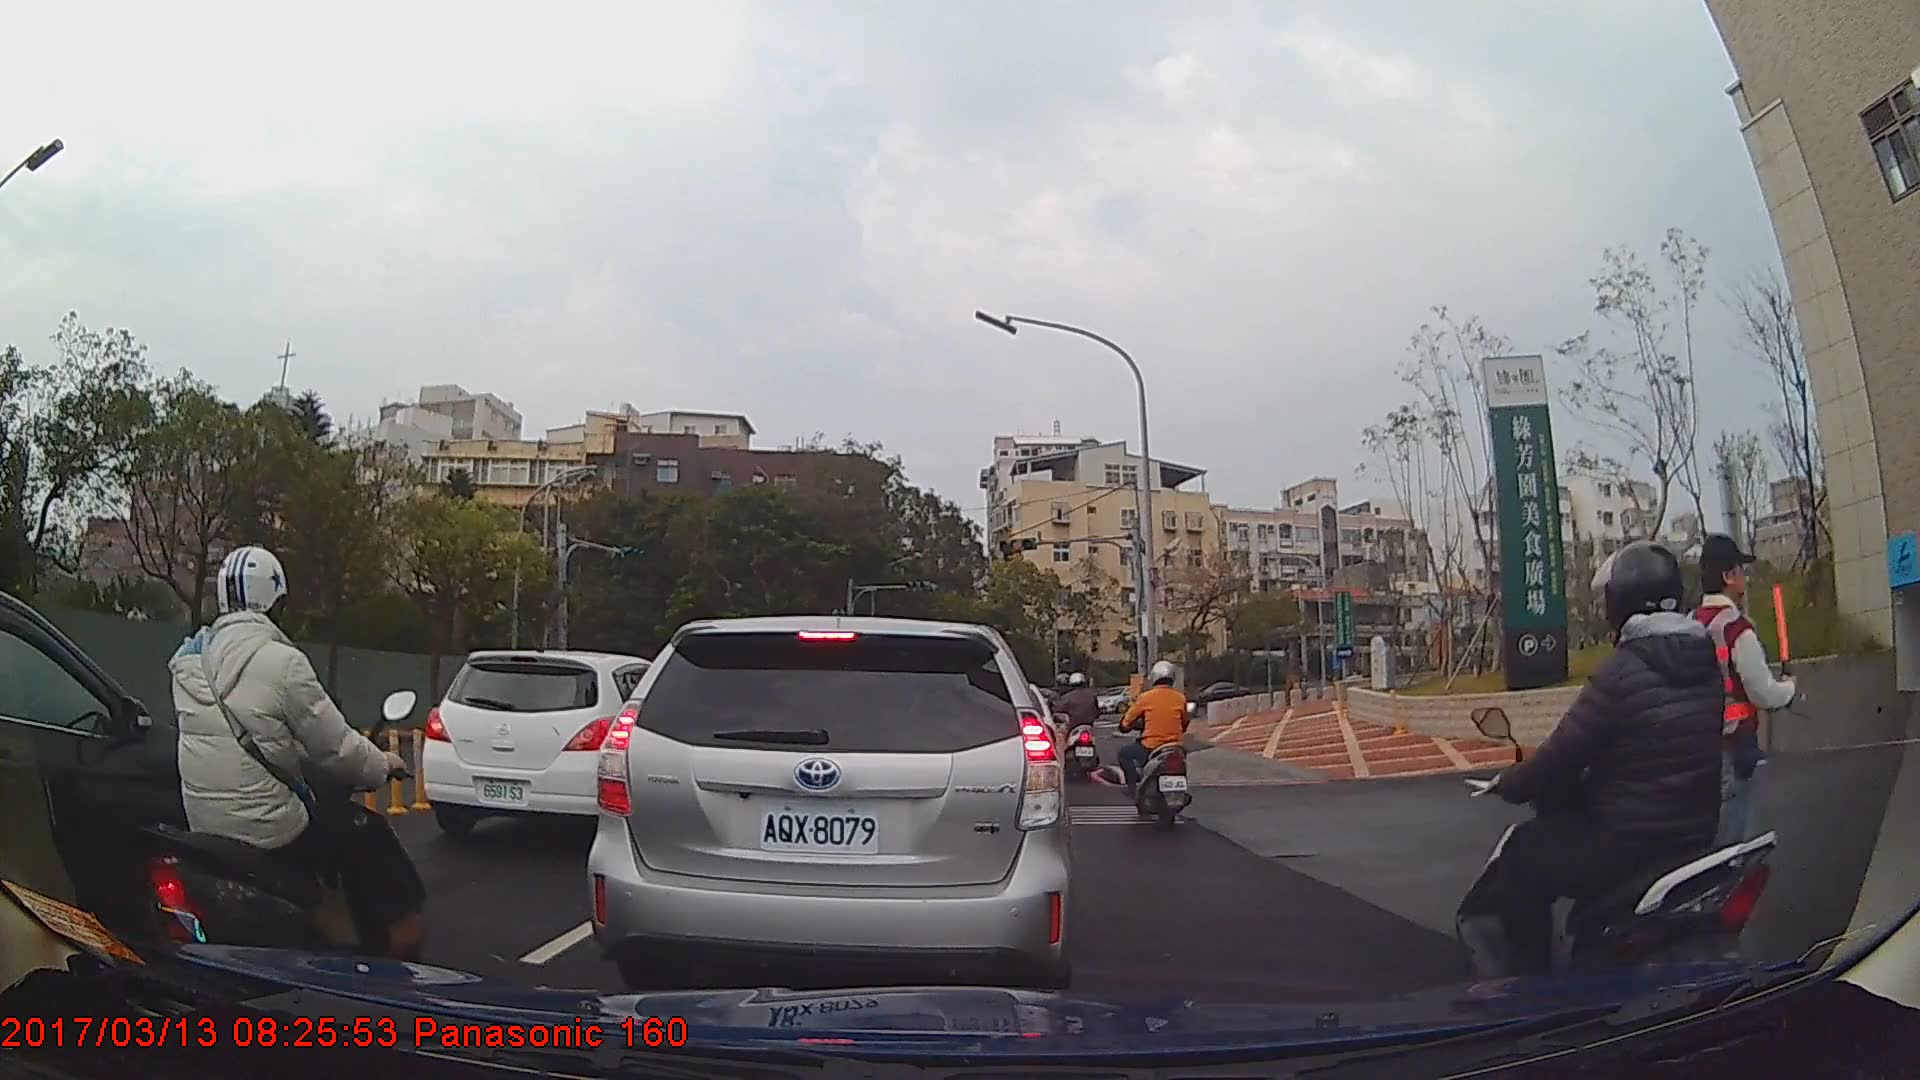rider: (1464, 542, 1795, 1008), (123, 546, 430, 1039), (1115, 655, 1200, 827), (1058, 667, 1104, 782)
vehicle: (581, 614, 1075, 988), (0, 586, 285, 948), (420, 649, 694, 842), (1183, 679, 1253, 716)
